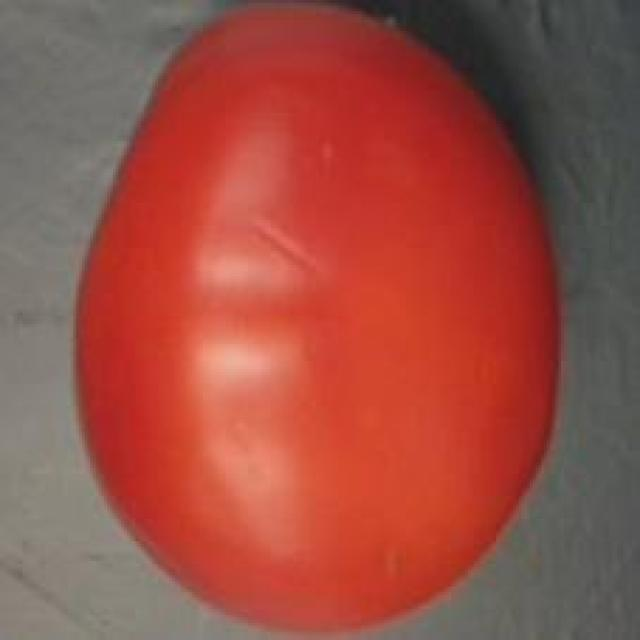ripe tomato: (62, 3, 564, 640)
